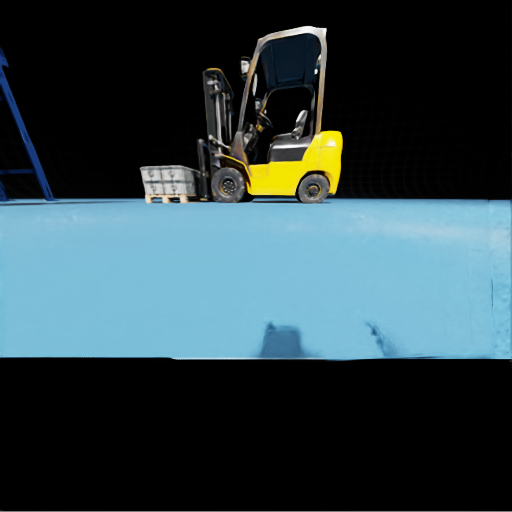transportation_area: (163, 181, 201, 194)
